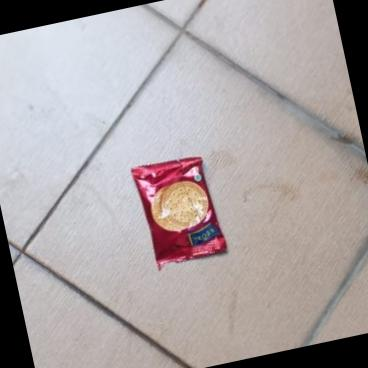Plastik: (130, 152, 229, 273)
